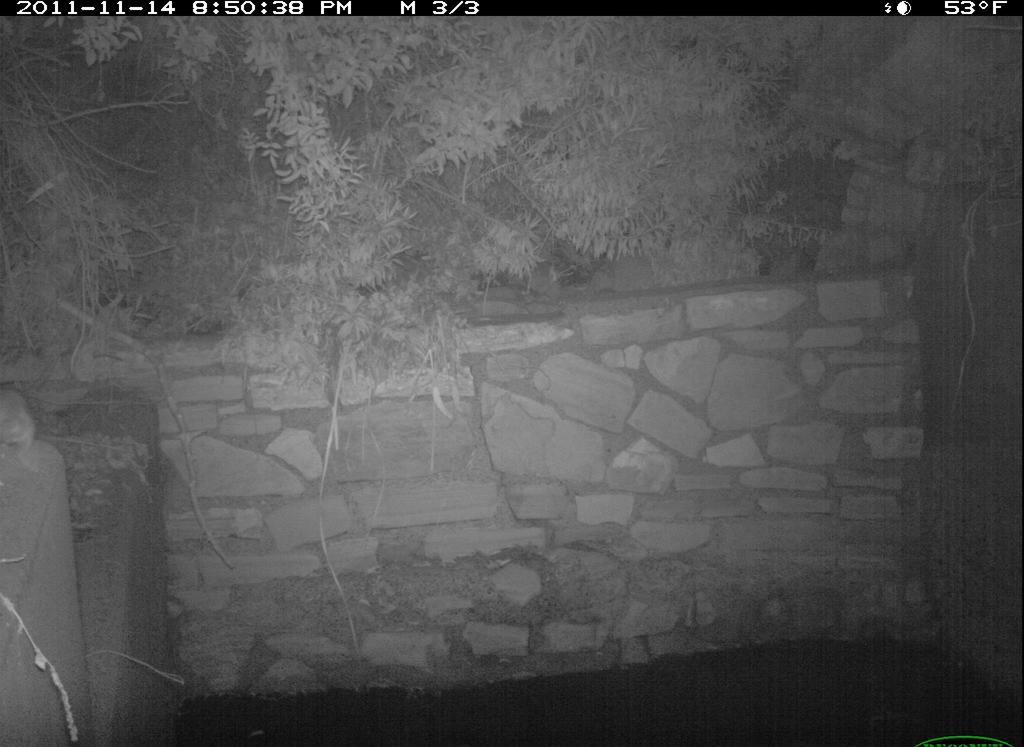rodent: (3, 376, 49, 478)
